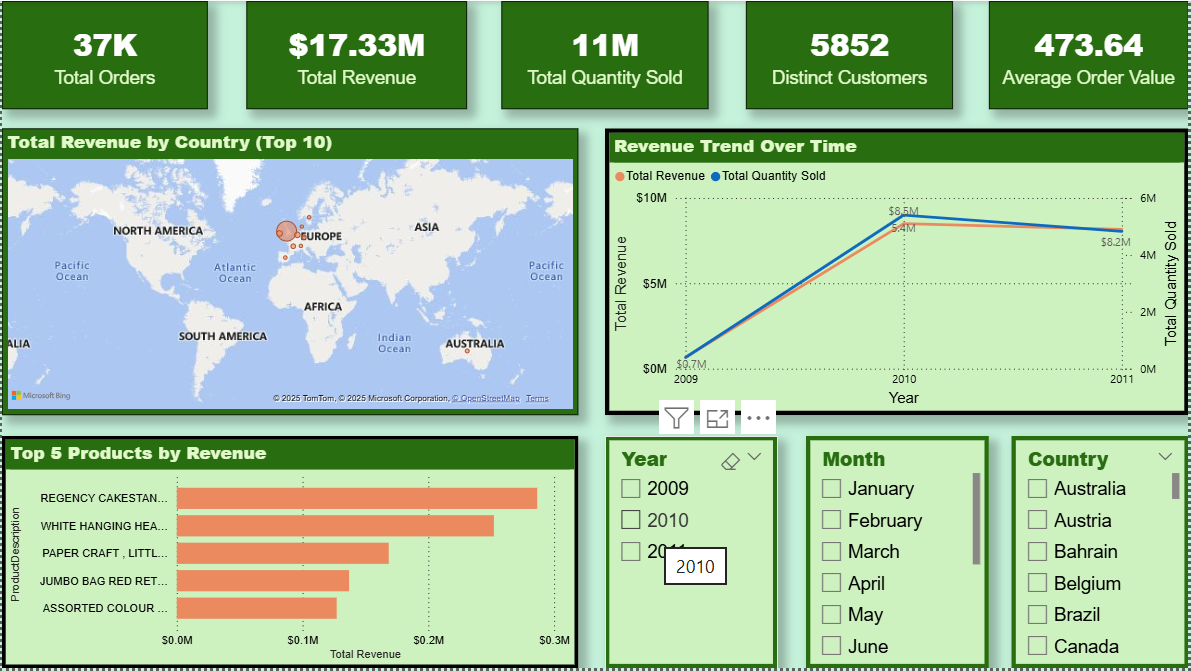

The dashboard page shown, as its layout file describes it:
{"tool":"powerbi","page":{"name":"Sales Dashboard","canvas":[1280,720],"ordinal":1},"visuals":[{"type":"card","fields":{"Values":["Sheet 1.Total Orders"]},"box":[0,0,221.8,116.6],"z":0},{"type":"card","fields":{"Values":["Sheet 1.Total Revenue"]},"box":[263.9,0,238,116.6],"z":1000},{"type":"card","fields":{"Values":["Sheet 1.Total Quantity Sold"]},"box":[539.2,0,223.5,116.6],"z":2000},{"type":"card","fields":{"Values":["Sheet 1.Average Order Value"]},"box":[1065.5,0,215.4,116.6],"z":3000},{"type":"card","fields":{"Values":["Sheet 1.Distinct Customers"]},"box":[803.1,0,223.5,116.6],"z":4000},{"type":"lineChart","title":"Revenue Trend Over Time","fields":{"Category":["Sheet 1.InvoiceDate.Variation.Date Hierarchy.Year","Sheet 1.InvoiceDate.Variation.Date Hierarchy.Quarter","Sheet 1.InvoiceDate.Variation.Date Hierarchy.Month","Sheet 1.InvoiceDate.Variation.Date Hierarchy.Day"],"Y":["Sheet 1.Total Revenue"],"Y2":["Sheet 1.Total Quantity Sold"]},"box":[650.9,137.6,629.9,309.3],"z":5000},{"type":"map","title":"Total Revenue by Country (Top 10)","fields":{"Category":["Sheet 1.Country"],"Size":["Sheet 1.Total Revenue"]},"box":[0,137.6,621.8,309.3],"z":6000},{"type":"clusteredBarChart","title":"Top 5 Products by Revenue","fields":{"Category":["Sheet 1.ProductDescription"],"Y":["Sheet 1.Total Revenue"]},"box":[0,469.6,621.8,251],"z":7000},{"type":"slicer","title":"Year","fields":{"Values":["Sheet 1.InvoiceDate.Variation.Date Hierarchy.Year"]},"box":[650.9,469.6,186.2,251],"z":8000},{"type":"slicer","title":"Year","fields":{"Values":["Sheet 1.Country"]},"box":[1089.7,469.6,191.1,251],"z":9000},{"type":"slicer","title":"Year","fields":{"Values":["Sheet 1.InvoiceDate.Variation.Date Hierarchy.Month"]},"box":[867.9,469.6,197.5,251],"z":10000}]}

Visuals, with their boxes in screenshot pixels (x1, y1, x2, y2), scaled from the page's 1280x720 canvas onto the 1191x671 screenshot:
card - Sheet 1.Total Orders: <bbox>0, 0, 206, 109</bbox>
card - Sheet 1.Total Revenue: <bbox>246, 0, 467, 109</bbox>
card - Sheet 1.Total Quantity Sold: <bbox>502, 0, 710, 109</bbox>
card - Sheet 1.Average Order Value: <bbox>991, 0, 1190, 109</bbox>
card - Sheet 1.Distinct Customers: <bbox>747, 0, 955, 109</bbox>
"Revenue Trend Over Time" lineChart: <bbox>606, 128, 1190, 416</bbox>
"Total Revenue by Country (Top 10)" map: <bbox>0, 128, 579, 416</bbox>
"Top 5 Products by Revenue" clusteredBarChart: <bbox>0, 438, 579, 670</bbox>
"Year" slicer: <bbox>606, 438, 779, 670</bbox>
"Year" slicer: <bbox>1014, 438, 1190, 670</bbox>
"Year" slicer: <bbox>808, 438, 991, 670</bbox>
